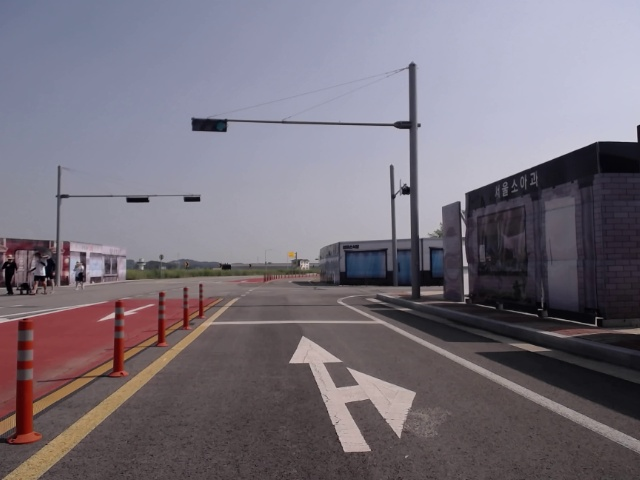green_3: (192, 118, 228, 132)
